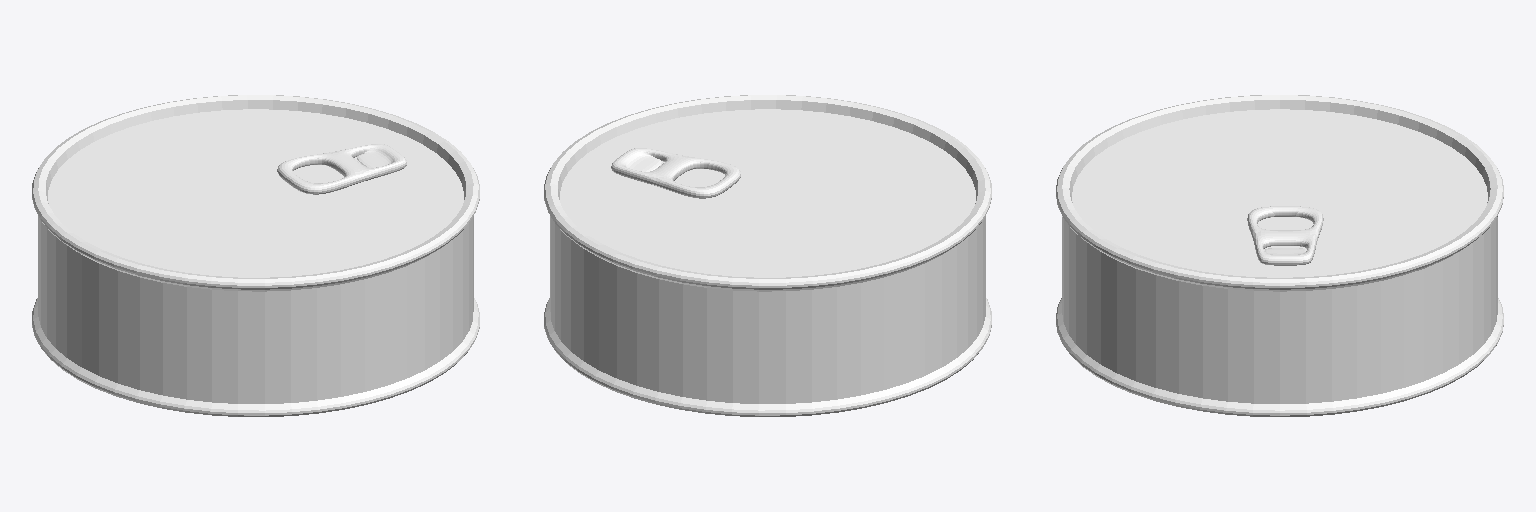
Rendered from latita.obj.
The picture shows the model from 3 angles: view 1: azimuth 30°, elevation 25°; view 2: azimuth 150°, elevation 25°; view 3: azimuth 270°, elevation 25°; orthographic projection.
Parts seen in each view (by area): view 1: latita:Mesh; view 2: latita:Mesh; view 3: latita:Mesh.
Part boxes in pixels (left/top/right/bottom): latita:Mesh: left=32, top=95, right=479, bottom=416; latita:Mesh: left=544, top=95, right=991, bottom=416; latita:Mesh: left=1056, top=95, right=1503, bottom=416.
Bounding box in the file's own units: 2.06 × 0.6982 × 2.06.